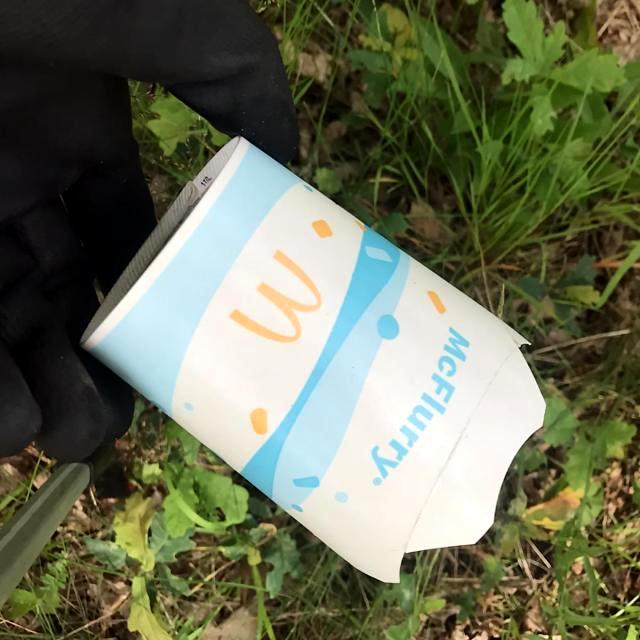Paper: (76, 132, 546, 588)
